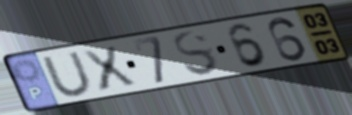6: (266, 15, 308, 63), (227, 22, 269, 69)
7: (130, 34, 169, 87)
S: (172, 29, 222, 78)
U: (39, 49, 97, 98)
X: (77, 44, 140, 94)
